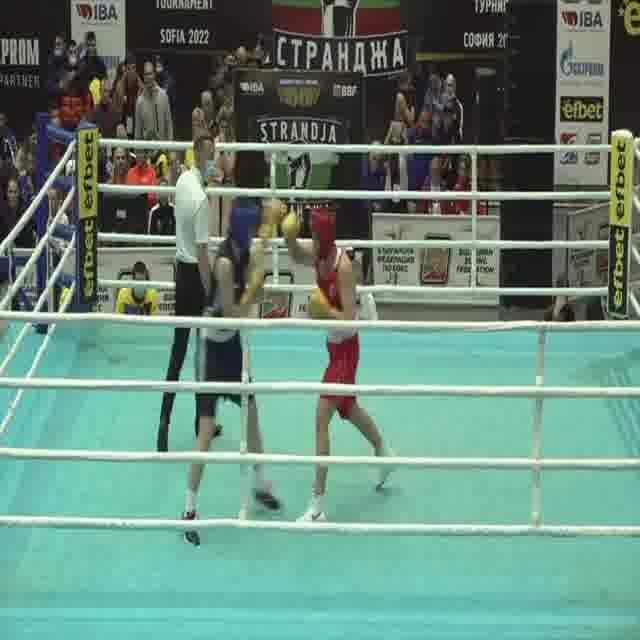blue-player: (181, 196, 284, 550)
red-player: (276, 200, 400, 529)
referee: (154, 132, 224, 458)
